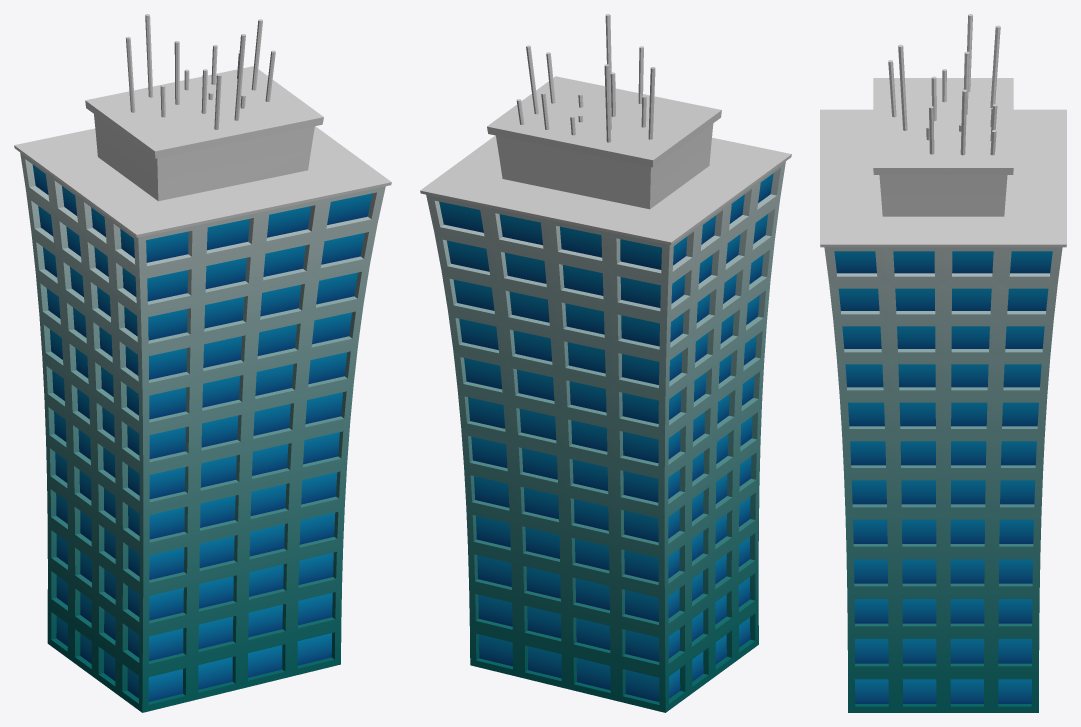
Rendered from SM_Enviro_Building_01.fbx.
3 views of the same model, side by side, from view 1: azimuth 30°, elevation 25°; view 2: azimuth 150°, elevation 25°; view 3: azimuth 270°, elevation 25° (orthographic). The views are drawn at different scales.
Parts seen in each view (by area): view 1: null1; view 2: null1; view 3: null1.
Part boxes in pixels (left/top/right/bottom): null1: left=14, top=14, right=391, bottom=712; null1: left=420, top=14, right=791, bottom=712; null1: left=820, top=14, right=1066, bottom=712.
Bounding box in the file's own units: 581 × 1366 × 484.
